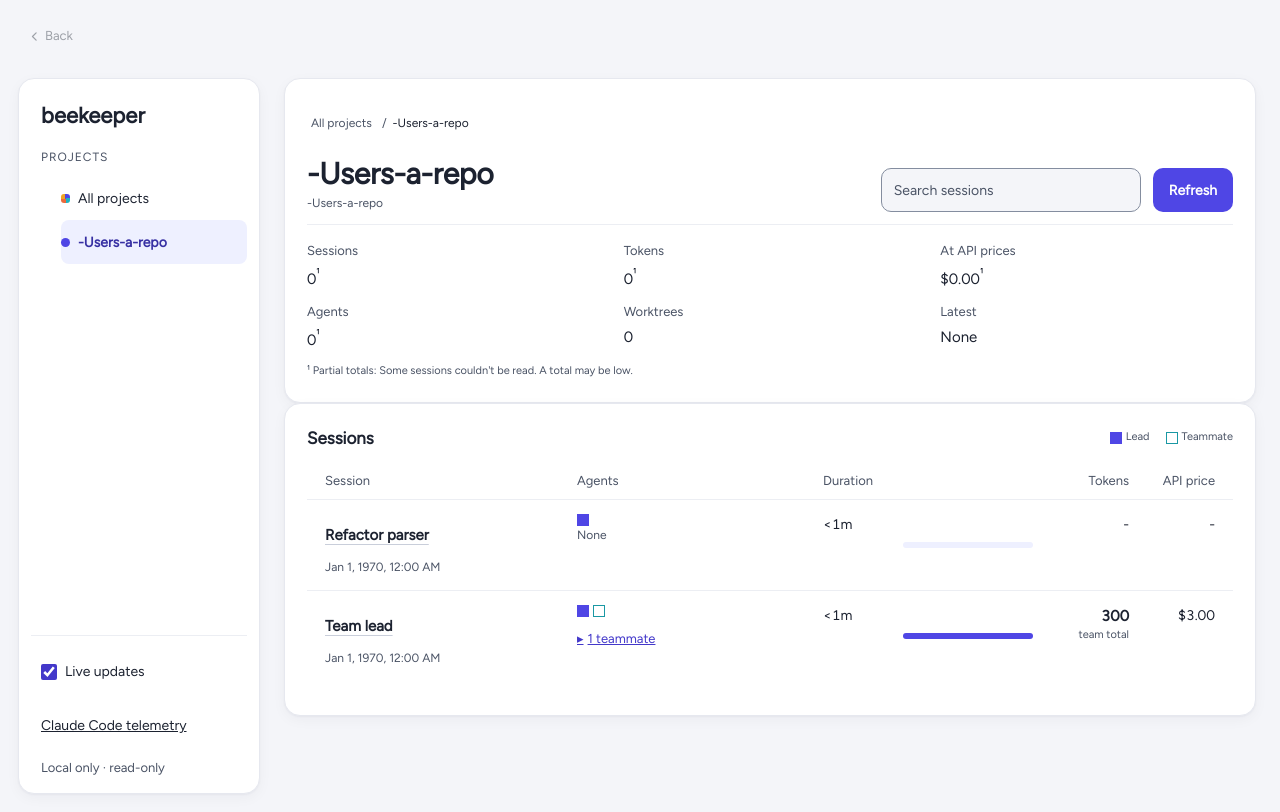
Test: session search by subagent › shows a session whose subagent matches, naming the subagent
The image size is (1280, 812).
Type "SCOUT" into the search field labelled "Search sessions" at (1011, 190), box [881,168,1141,212]
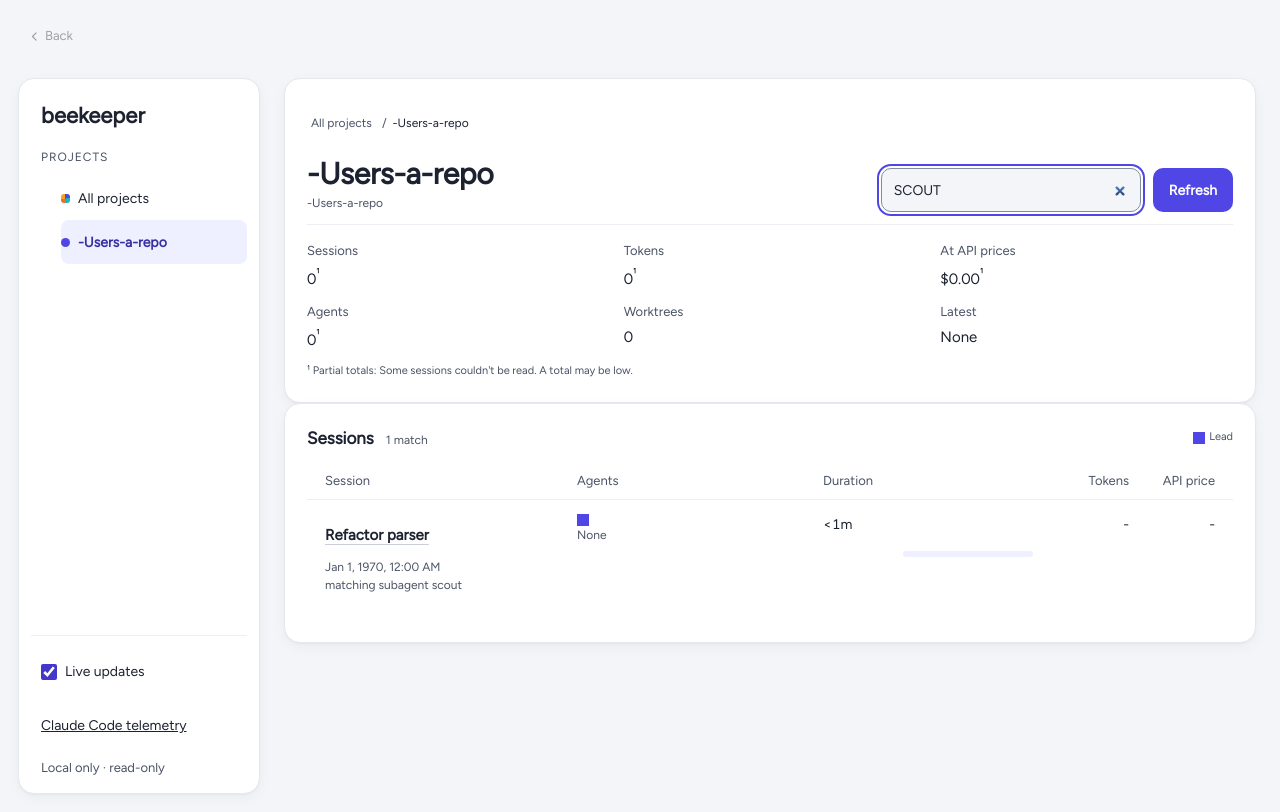
Expected: the text "matching subagent scout" is shown, [325,578,462,592]
Expected: the button "Team lead" is gone
